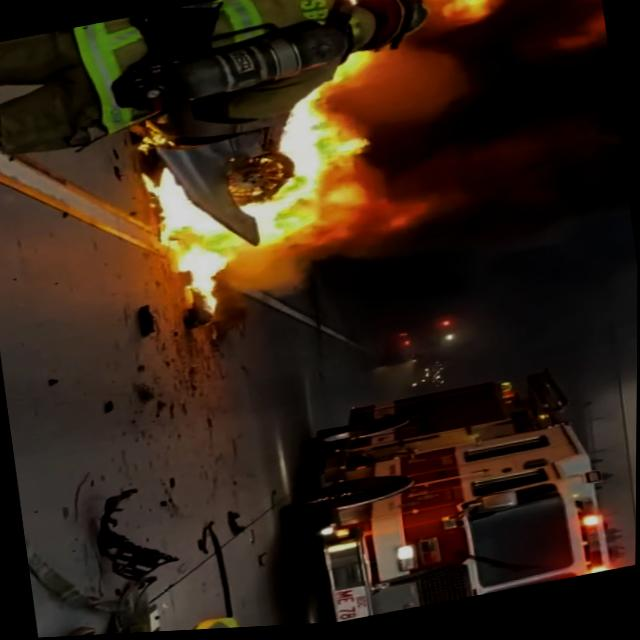fire: (415, 0, 610, 90)
smoke: (370, 107, 639, 313)
